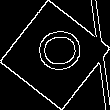O_W: (27, 31, 83, 79)
